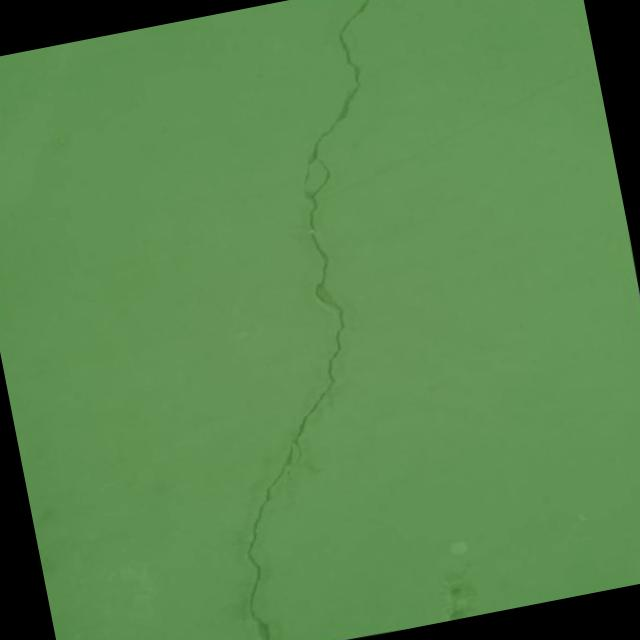crack: (135, 0, 518, 640)
